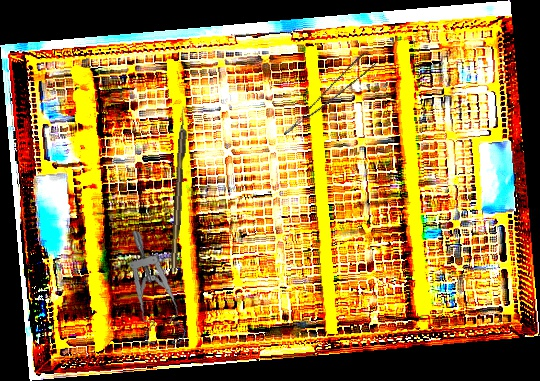Hook Surgical: (169, 105, 189, 273)
Speculum: (119, 230, 197, 349)
Tissue Forceps: (272, 50, 380, 136)
